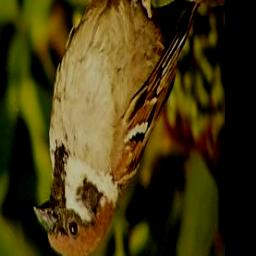Sparrow: (30, 0, 200, 256)
